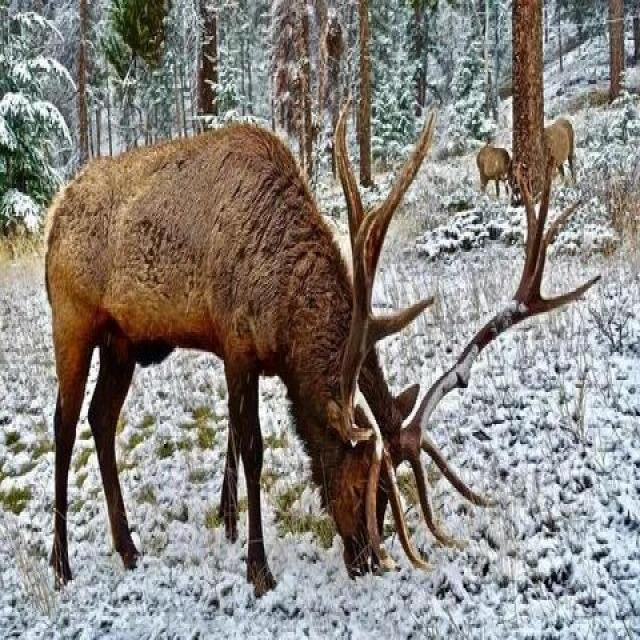deer: (0, 88, 446, 640)
